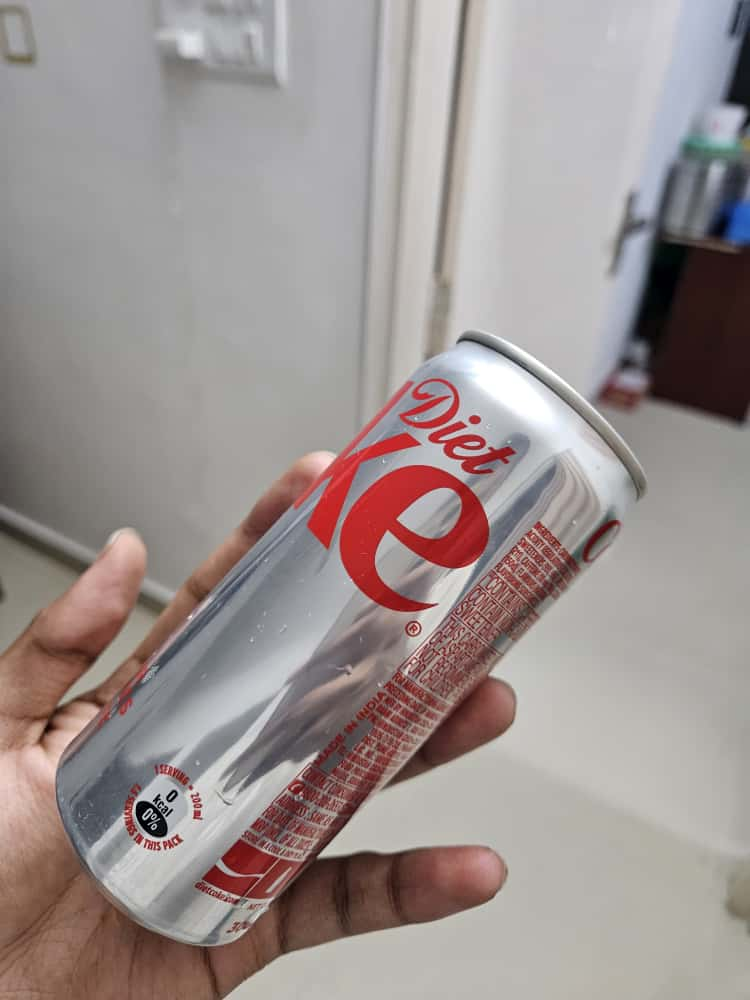dry: (89, 335, 689, 715)
